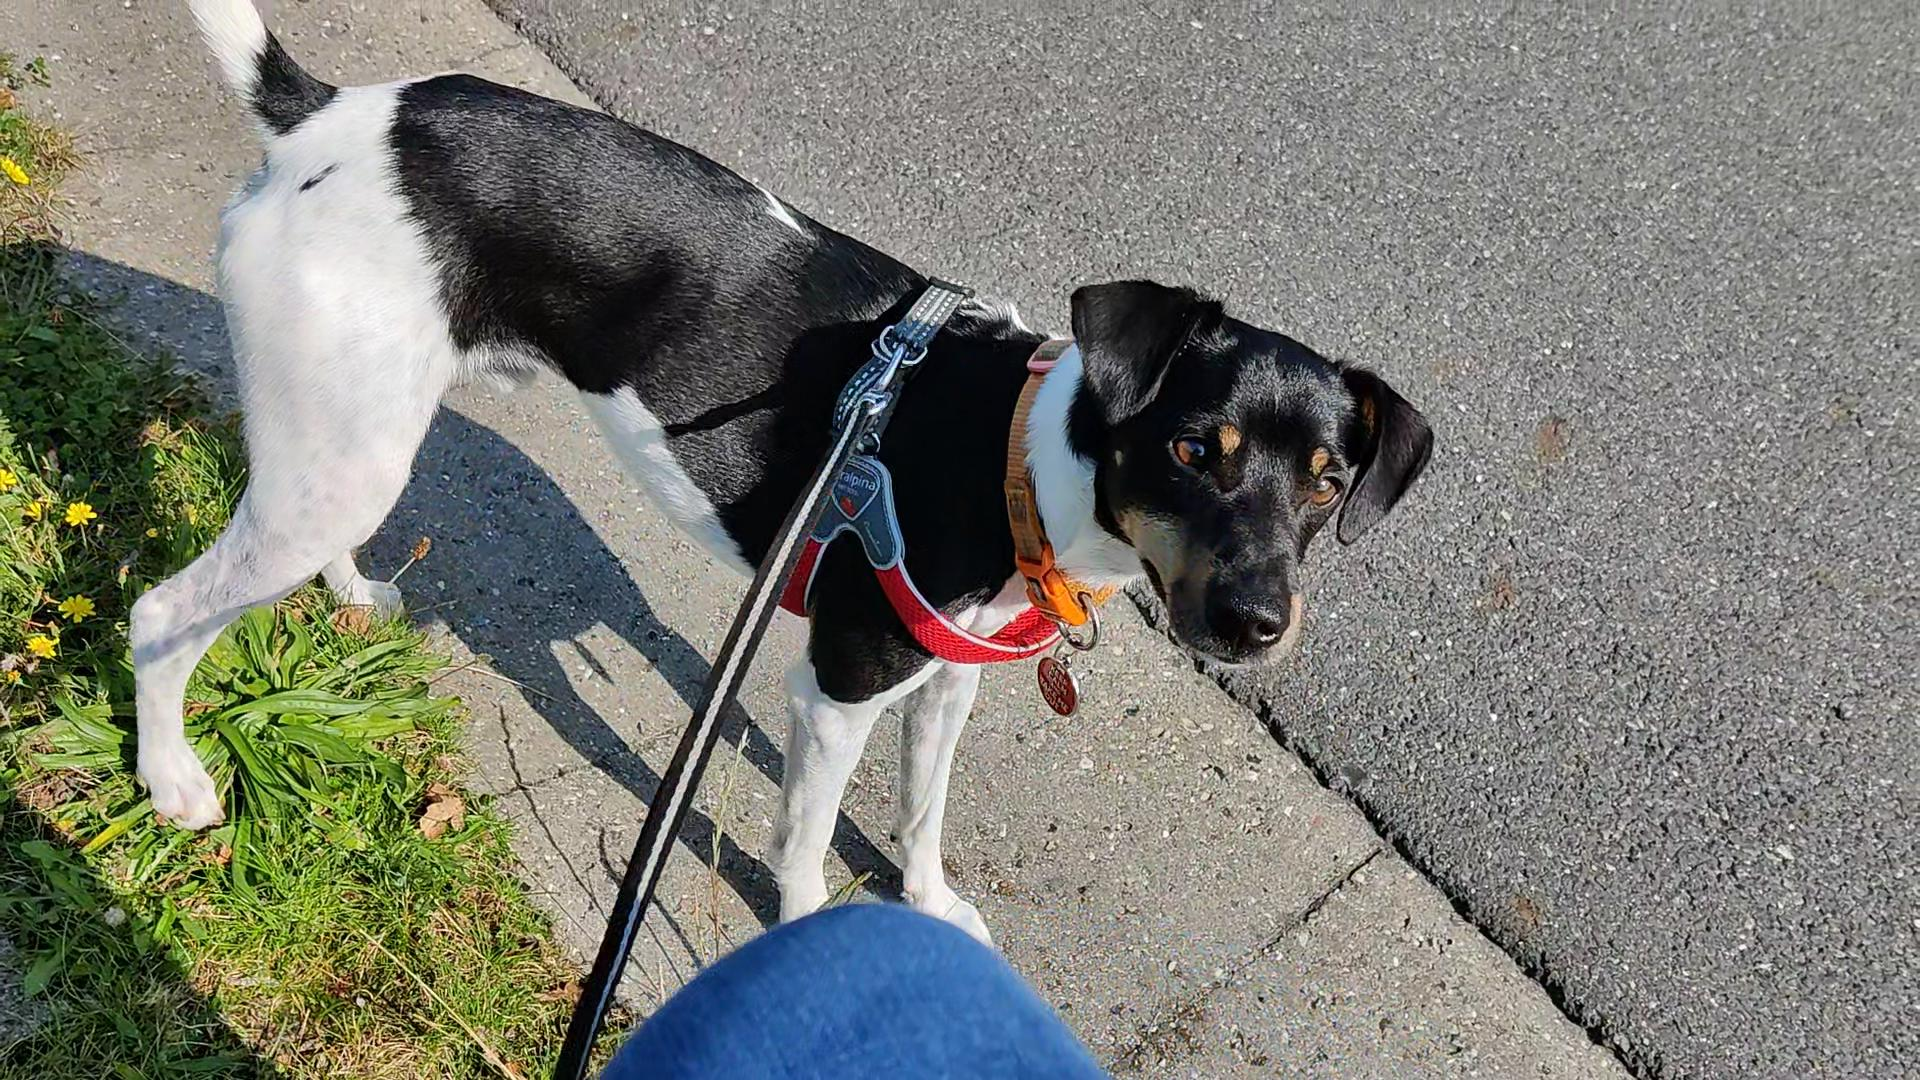Dog: (104, 0, 1444, 961)
